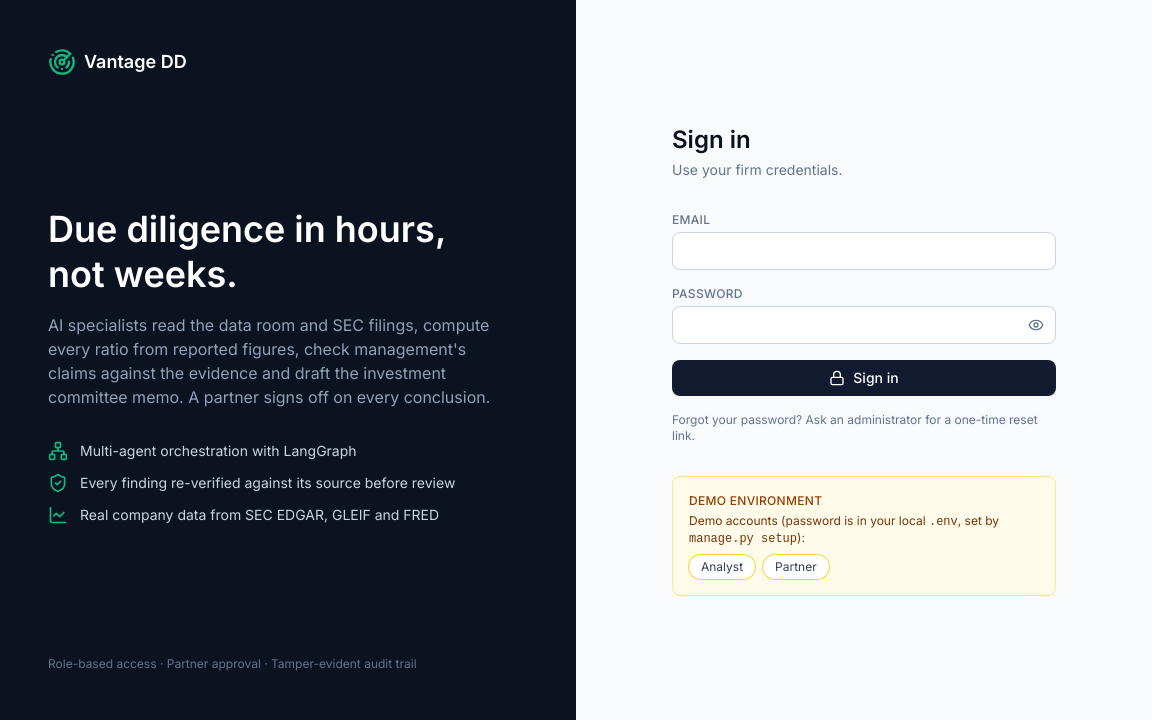
Test: Login page › shows the server's generic error on failed login
Type "analyst@vantage.dev" into the field labelled "Email" at {"x": 864, "y": 251}, box [672,232,1056,270]
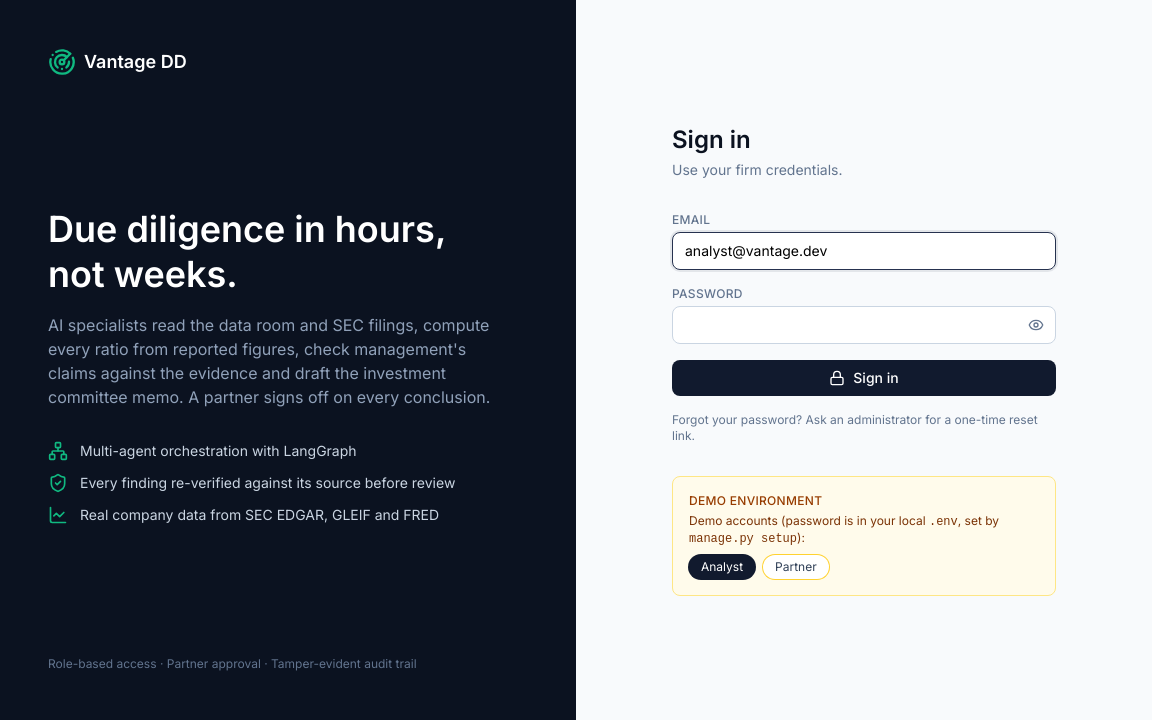
Type "wrong" into the password field labelled "Password" at {"x": 864, "y": 325}, box [672,306,1056,344]
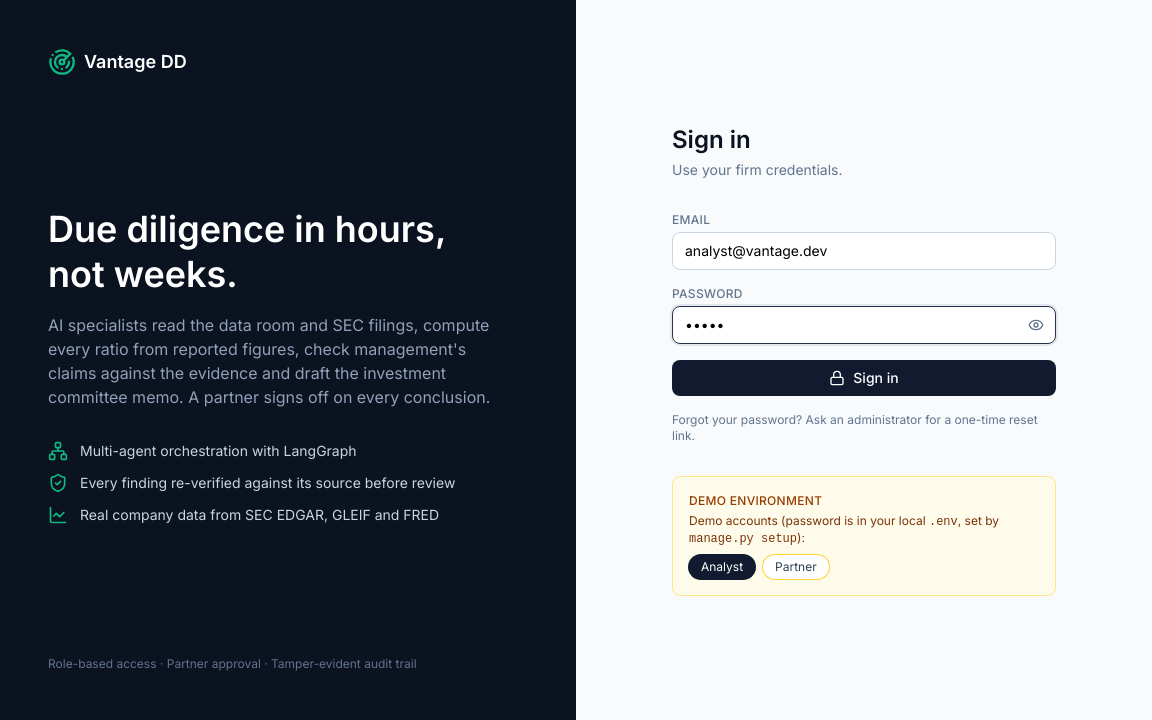
Click the button "Sign in" at {"x": 864, "y": 378}, box [672,360,1056,396]
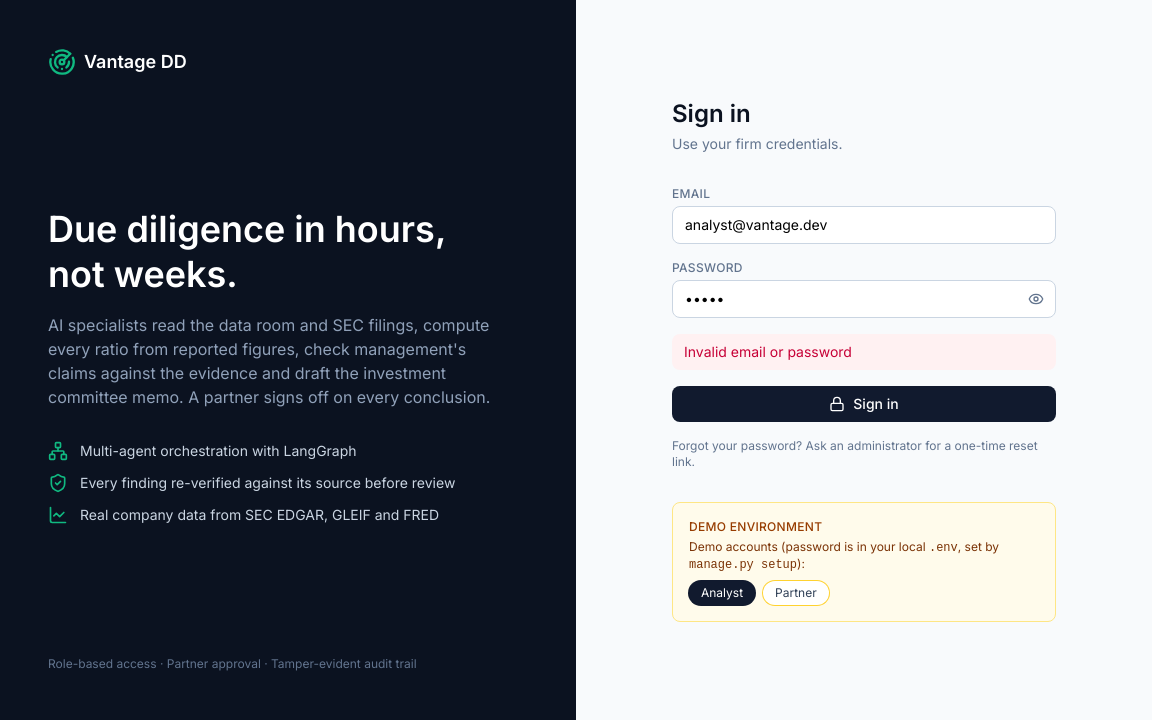
Result: the message reads "Invalid email or password" at [684,343,852,360]
